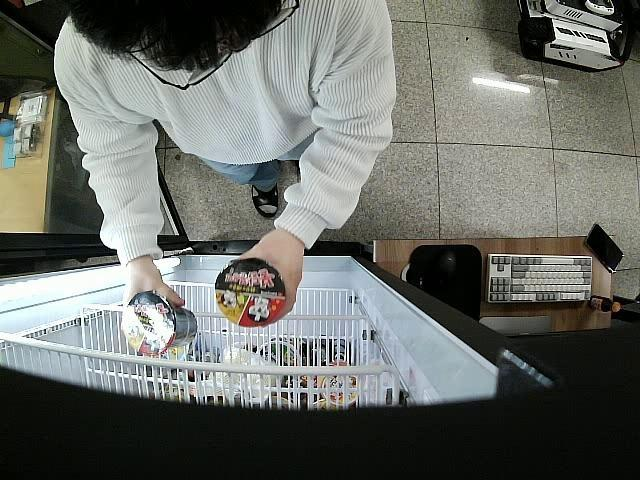08_buldak_S: (122, 294, 200, 356), (216, 258, 286, 326)
